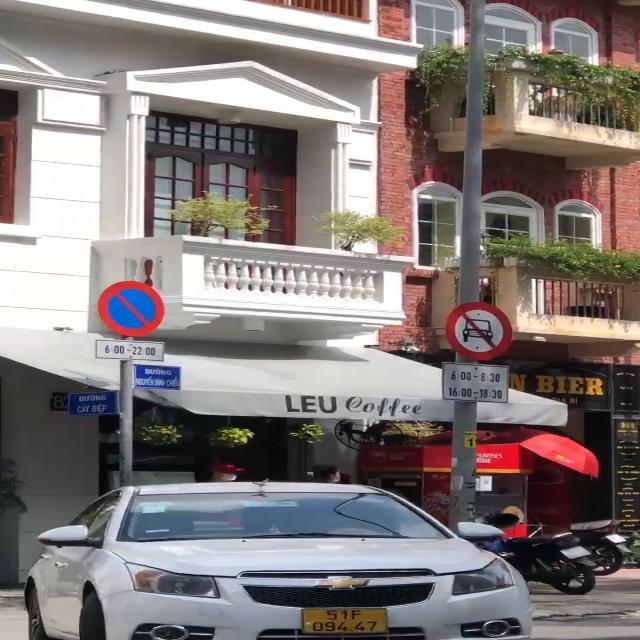Bien bao cam do xe: (94, 275, 176, 343)
Bien bao cam xe oto: (441, 300, 524, 359)
